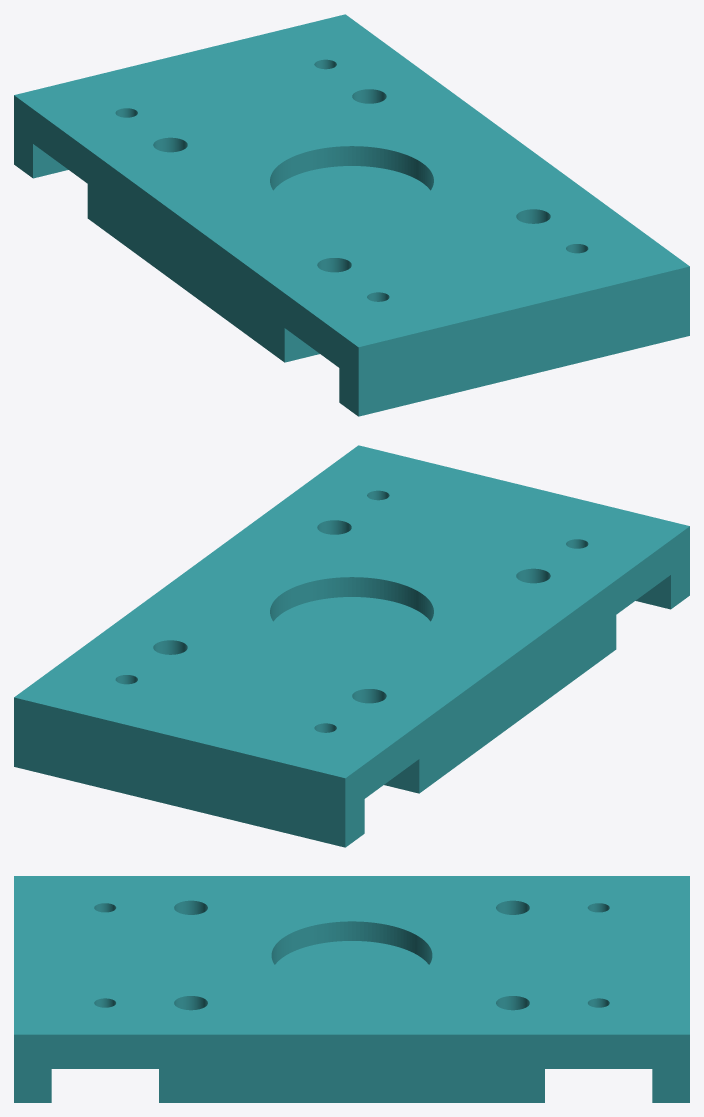
File: frame.dae
3 views of the same model, one above another, from view 1: azimuth 30°, elevation 25°; view 2: azimuth 150°, elevation 25°; view 3: azimuth 270°, elevation 25° (orthographic).
Parts seen in each view (by area): view 1: node0; view 2: node0; view 3: node0.
Boxes of the visible parts, x1=… form: node0: x1=14, y1=14, x2=689, y2=416; node0: x1=14, y1=445, x2=689, y2=847; node0: x1=14, y1=876, x2=689, y2=1102.
Bounding box in the file's own units: 0.07 × 0.126 × 0.014.
